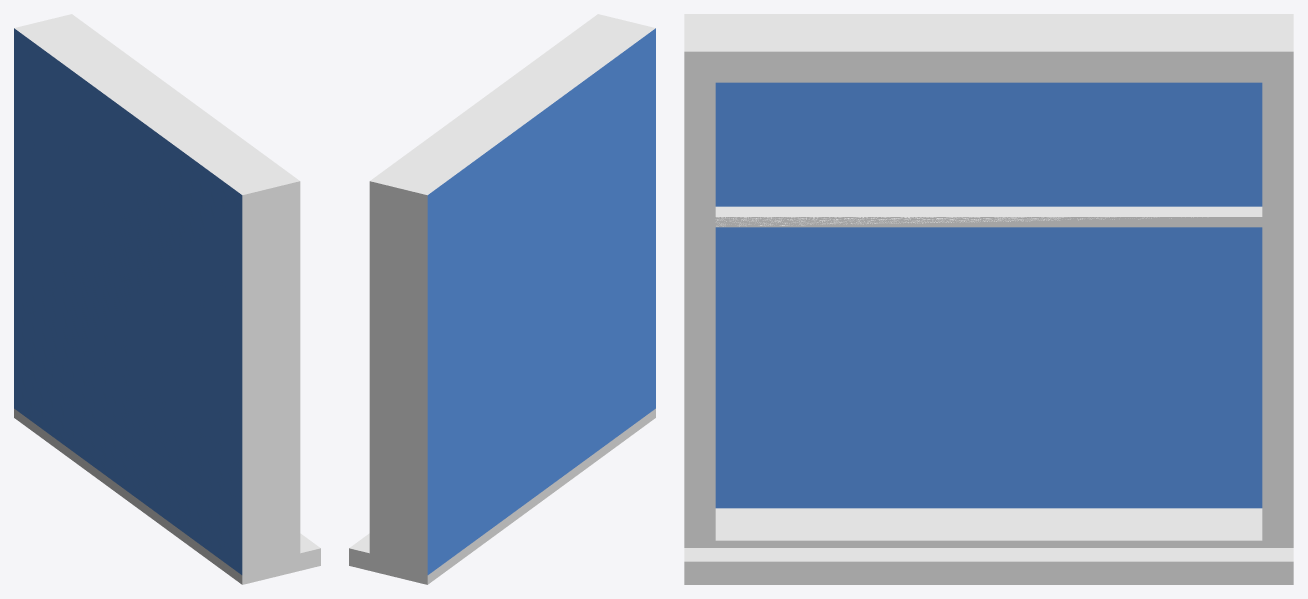
Rendered from GAMEJAMHERO - Window(Small).fbx.
3 renders of one model, left to right at view 1: azimuth 30°, elevation 25°; view 2: azimuth 150°, elevation 25°; view 3: azimuth 270°, elevation 25°, orthographic. The views are drawn at different scales.
Visible parts, largest first — view 1: Window Small; view 2: Window Small; view 3: Window Small.
Part boxes in pixels (box(x1,y1,x2,y2)): Window Small: box(14, 14, 320, 584); Window Small: box(349, 14, 655, 584); Window Small: box(684, 14, 1293, 584).
Size of the model in its own units: 32.51 by 154 by 164.
Materials: 1 (1 with a texture image).
